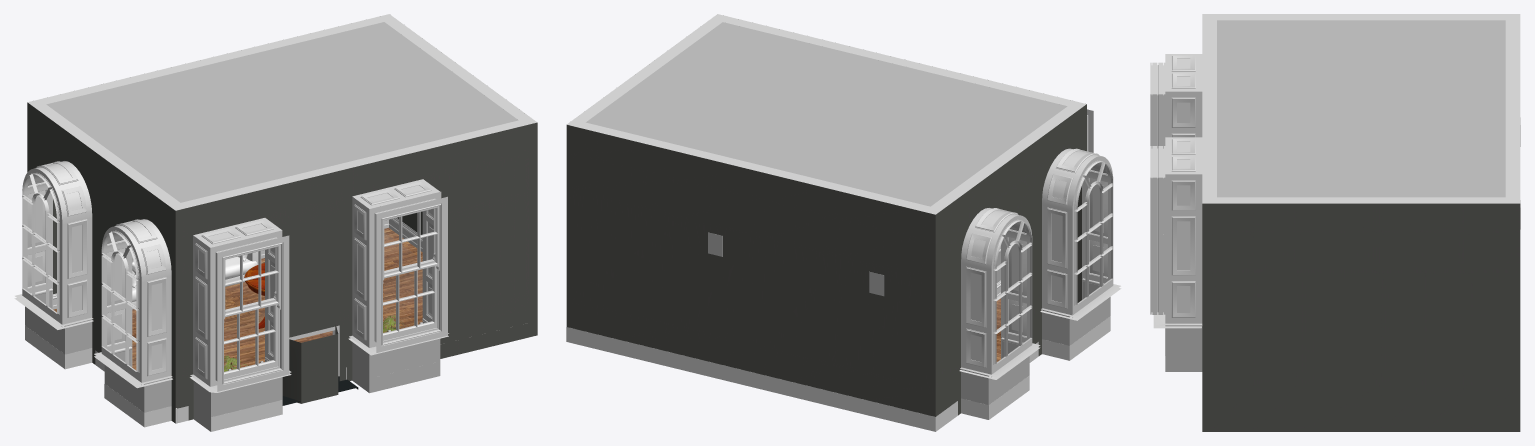
File: grey-and-white-room.glb
3 views of the same model, side by side, from view 1: azimuth 30°, elevation 25°; view 2: azimuth 150°, elevation 25°; view 3: azimuth 270°, elevation 25° (orthographic). The views are drawn at different scales.
Parts seen in each view (by area): view 1: Walls_0002, MattePaint_0003, Paneling_0011, Paneling_0001, MattePaint_0004, Paneling_0013, Floor, Paneling_0007, Paneling_0006, Paneling_0003, Paneling_0002, Paneling_0014 (+6 smaller); view 2: Walls_0002, MattePaint_0003, Paneling_0011, Paneling_0001, Paneling_0013, Paneling_0014, MattePaint_0004; view 3: Walls_0002, MattePaint_0003, Paneling_0013, Paneling_0007, Paneling_0003, Paneling_0006, MattePaint_0004, Paneling_0002.
Part boxes in pixels (x1,y1,x2,y2): Walls_0002: [27, 102, 537, 423]; MattePaint_0003: [46, 22, 518, 202]; Paneling_0011: [94, 219, 177, 423]; Paneling_0001: [14, 161, 93, 329]; MattePaint_0004: [25, 291, 440, 431]; Paneling_0013: [28, 14, 537, 210]; Floor: [53, 227, 422, 371]; Paneling_0007: [348, 179, 448, 355]; Paneling_0006: [369, 191, 447, 352]; Paneling_0003: [190, 218, 291, 392]; Paneling_0002: [210, 230, 289, 391]; Paneling_0014: [25, 218, 422, 431]; Walls_0002: [566, 104, 1086, 416]; MattePaint_0003: [586, 22, 1067, 206]; Paneling_0011: [1040, 148, 1121, 320]; Paneling_0001: [959, 208, 1040, 379]; Paneling_0013: [567, 14, 1086, 214]; Paneling_0014: [566, 280, 1110, 431]; MattePaint_0004: [961, 252, 1110, 404]; Walls_0002: [1202, 203, 1520, 431]; MattePaint_0003: [1202, 20, 1519, 203]; Paneling_0013: [1202, 14, 1520, 203]; Paneling_0007: [1153, 137, 1202, 328]; Paneling_0003: [1165, 54, 1202, 137]; Paneling_0006: [1150, 146, 1165, 314]; MattePaint_0004: [1165, 325, 1202, 371]; Paneling_0002: [1150, 62, 1165, 148].
Bounding box in the file's own units: 5.64 × 2.88 × 4.23.
Materials: 6 (6 with a texture image).
